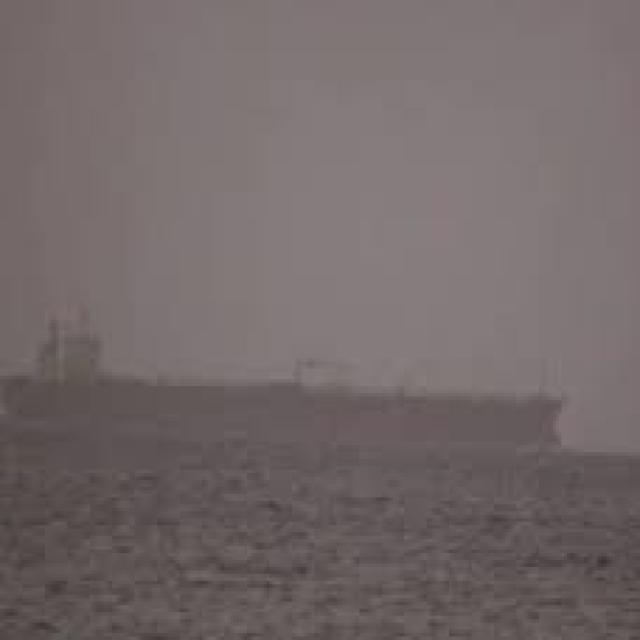cargoship: (0, 306, 570, 452)
